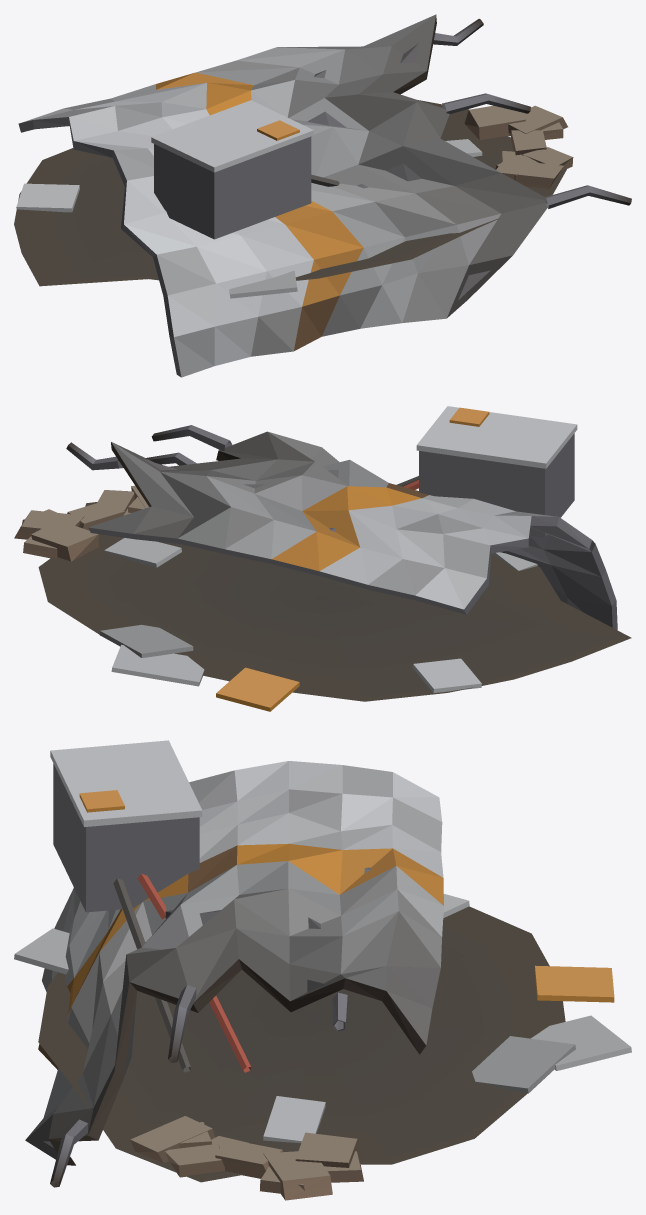
File: wreck_battery_a.glb
3 views of the same model, one above another, from view 1: azimuth 30°, elevation 25°; view 2: azimuth 150°, elevation 25°; view 3: azimuth 270°, elevation 25° (orthographic). The views are drawn at different scales.
Visible parts, largest first — view 1: wreck_battery_a; view 2: wreck_battery_a; view 3: wreck_battery_a.
Part boxes in pixels (x1,y1,x2,y2): wreck_battery_a: (14, 14, 631, 377); wreck_battery_a: (14, 406, 631, 711); wreck_battery_a: (14, 740, 631, 1200).
Size of the model in its own units: 3.4 by 1.18 by 2.56.
